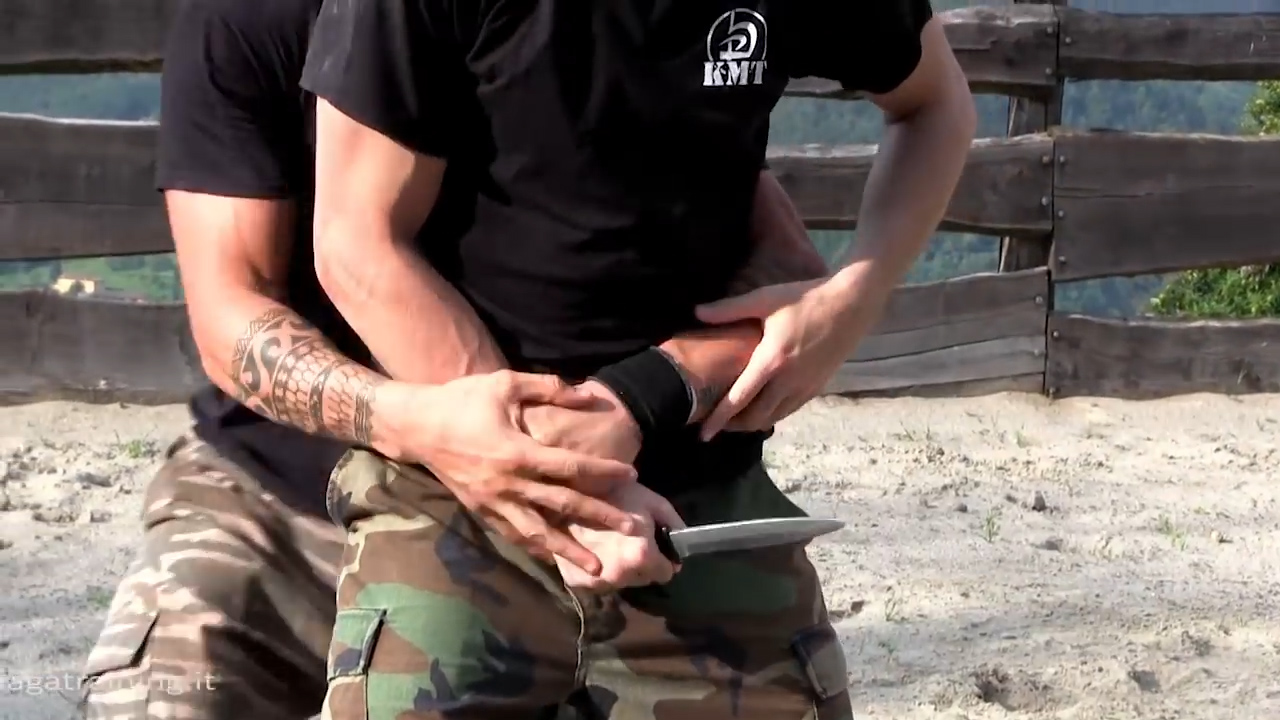knife: (560, 493, 860, 602)
